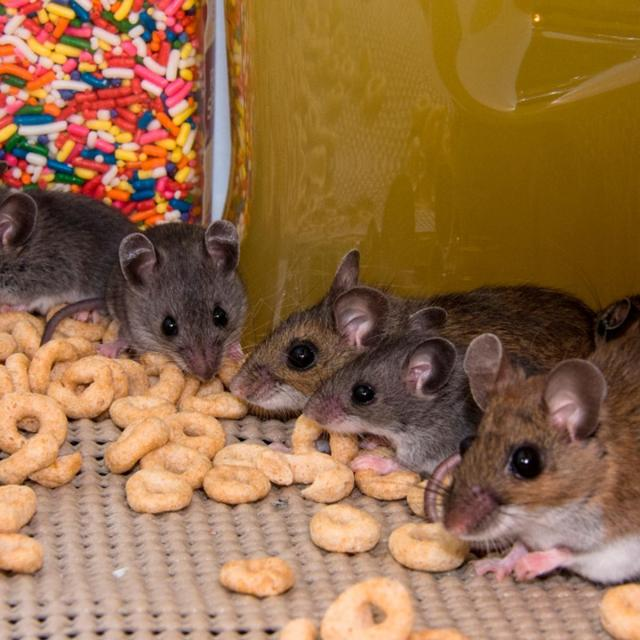rat: (300, 286, 630, 468), (449, 322, 640, 617), (203, 266, 405, 436), (102, 207, 252, 386), (0, 180, 146, 312)
